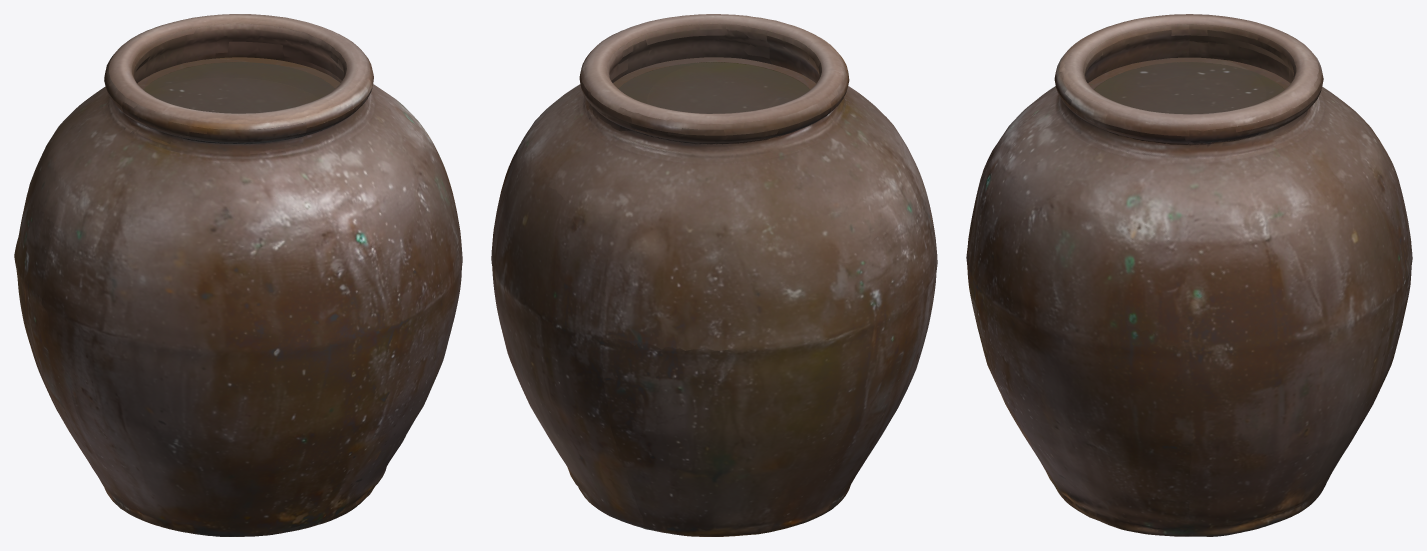
File: water-vat_raw.glb
3 views of the same model, side by side, from view 1: azimuth 30°, elevation 25°; view 2: azimuth 150°, elevation 25°; view 3: azimuth 270°, elevation 25° (orthographic).
Parts seen in each view (by area): view 1: geometry_0; view 2: geometry_0; view 3: geometry_0.
Boxes of the visible parts, x1,y1,x2,y2 form: geometry_0: [14, 14, 462, 536]; geometry_0: [491, 14, 937, 536]; geometry_0: [966, 14, 1412, 536].
Bounding box in the file's own units: 0.3135 × 0.32 × 0.3114.
Materials: 1 (1 with a texture image).
